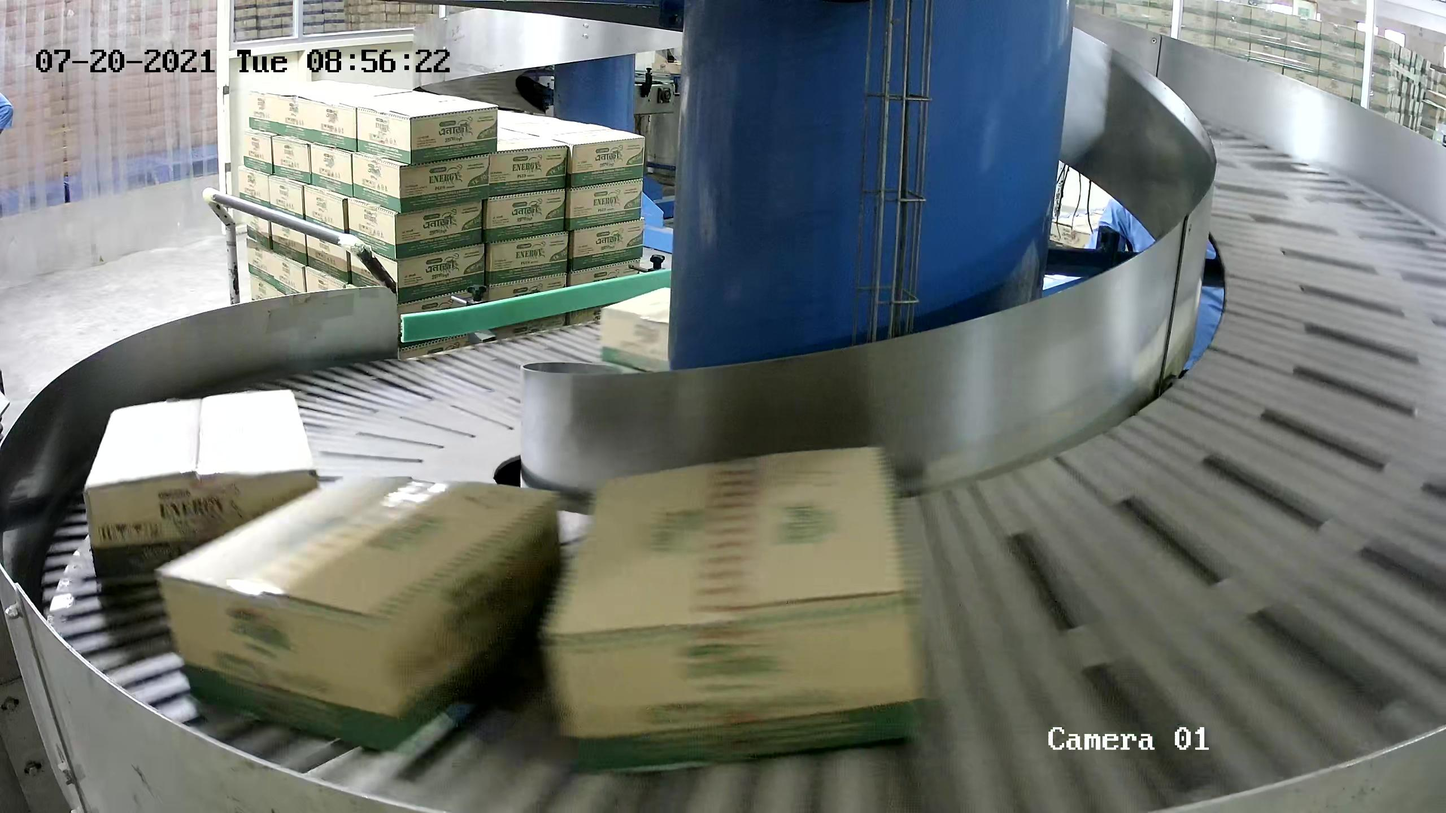Box: (539, 442, 930, 779), (154, 470, 564, 754), (81, 386, 319, 592), (600, 285, 671, 373)
